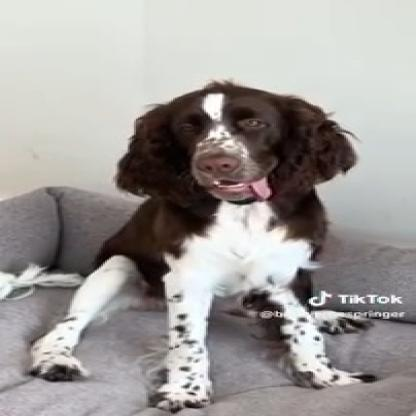dog: (48, 82, 362, 392)
